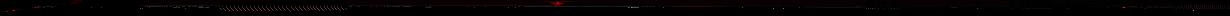Yellow cone: (546, 1, 569, 6), (855, 6, 861, 8)
